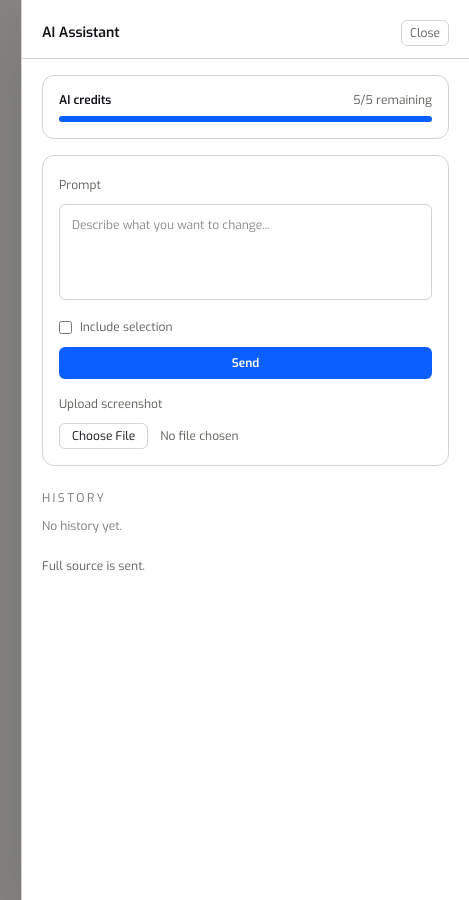
Scenario: AiDrawer › updates credits after retryable errors
In the text box with placeholder "Describe what you want to change...": {"x": 246, "y": 252} [59,204,432,300], type "Add a header"
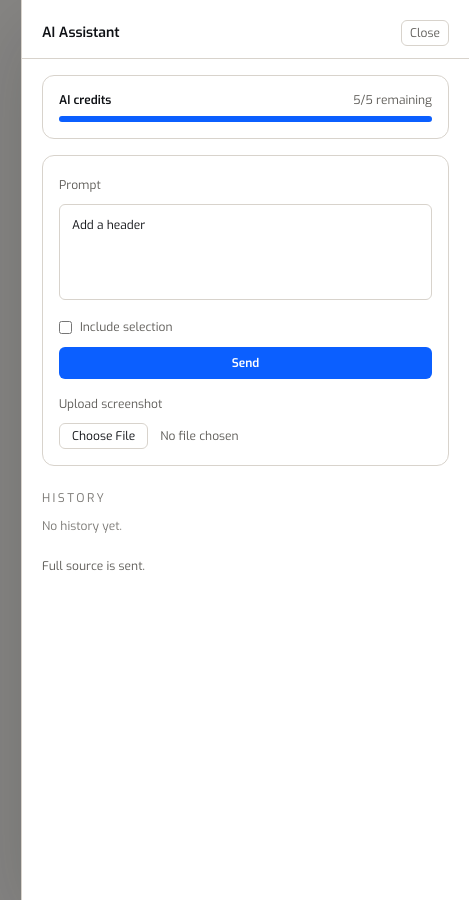
Click the button "Send": {"x": 246, "y": 363} [59,347,432,379]
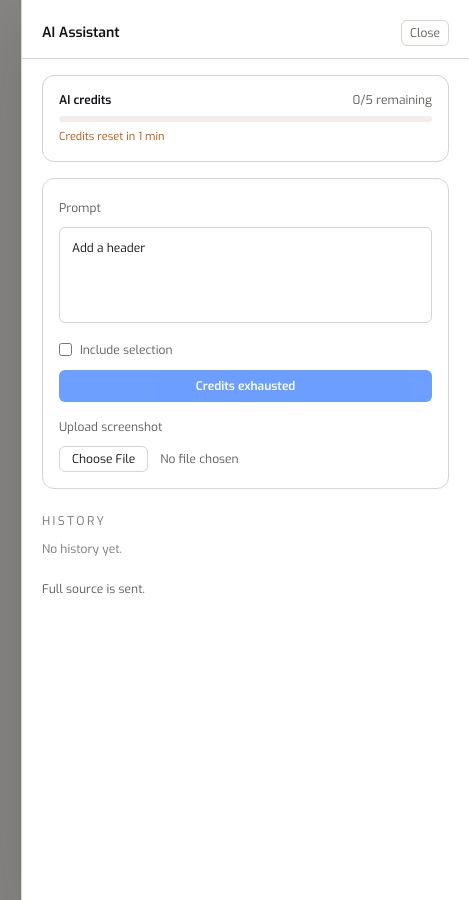
Now the button "Credits exhausted" is disabled, box [59,370,432,402]
